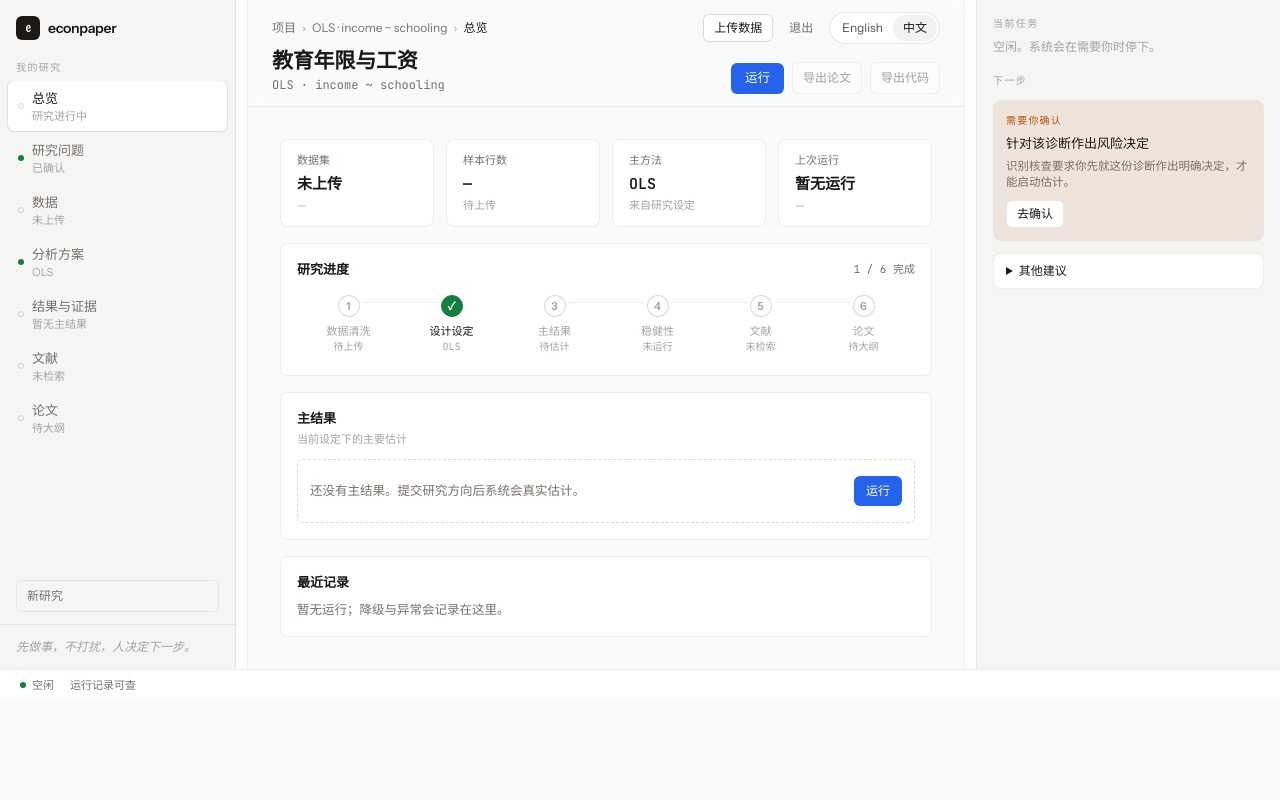
Test: page-level consistency between the preview card and the next-step rail › asks for the risk decision on both sides when the permission is confirm
The width and height of the screenshot is (1280, 800).
What coordinates should you click on to do the following:
click the button with test id "rail-question"
I would click on:
 (118, 158)
Its box is 8,133 -> 227,183.
(page scrolled)
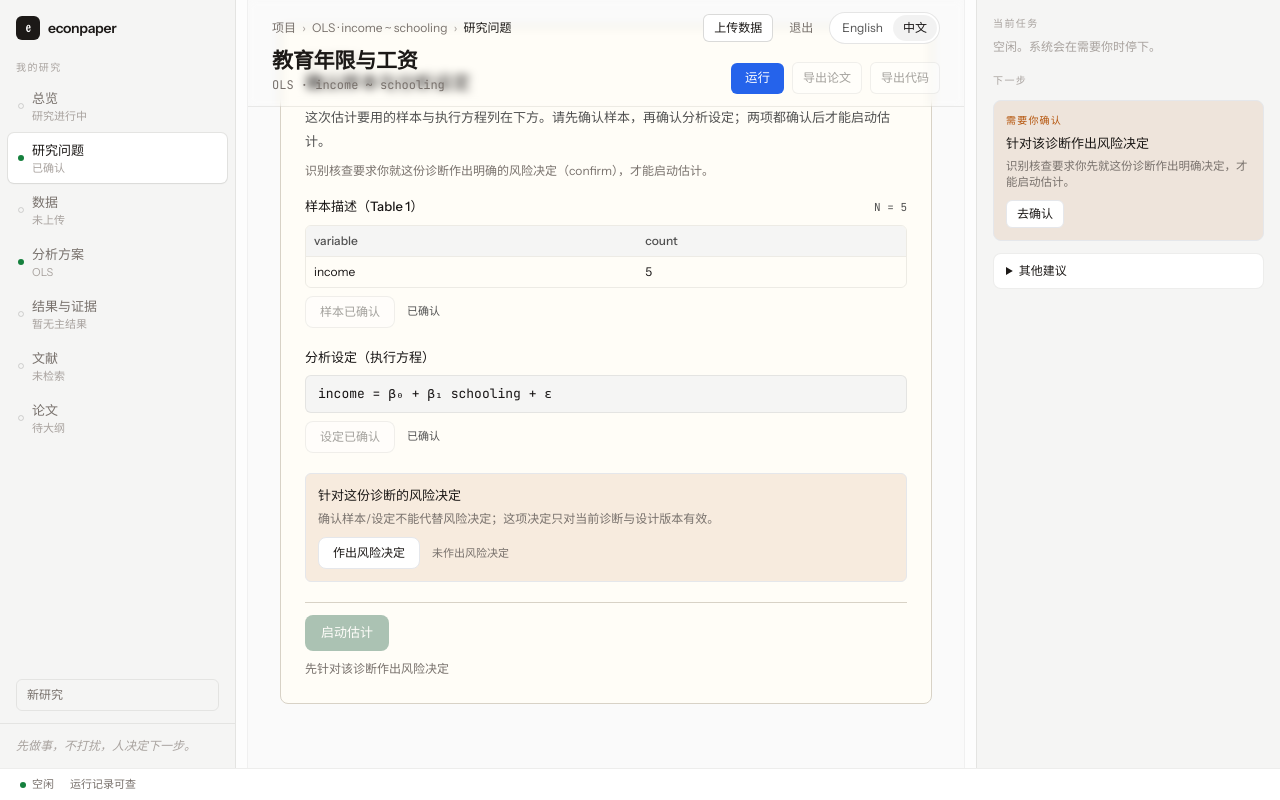
Expected: the heading with test id "decision-blocker-title" shows "风险", 1006,135 -> 1149,151
Now the element with test id "prewrite-confirm" is shown, box 280,26 -> 932,704
Now the button with test id "start-estimate-btn" is disabled, box 305,615 -> 389,651
